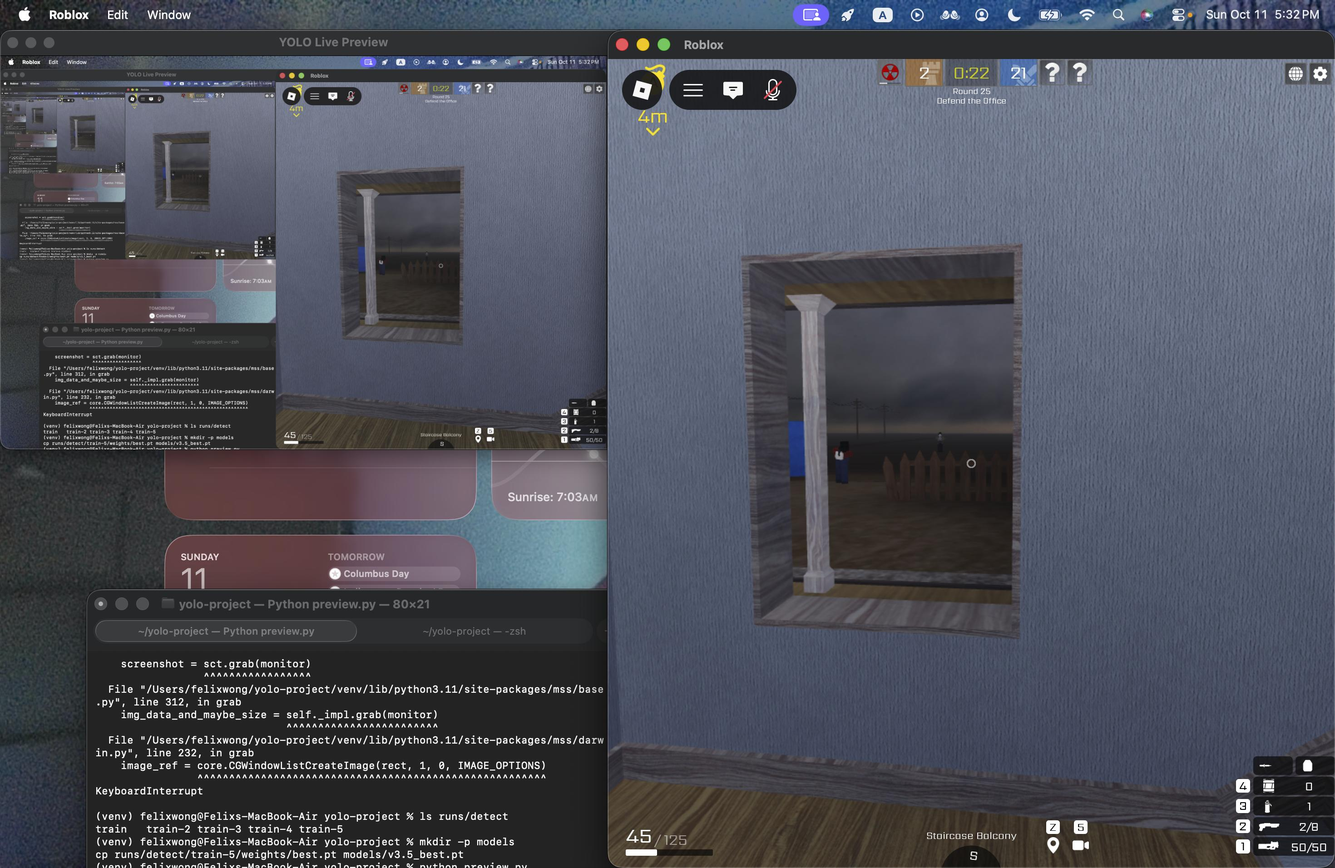enemy: (831, 440, 853, 485), (935, 432, 945, 452)
